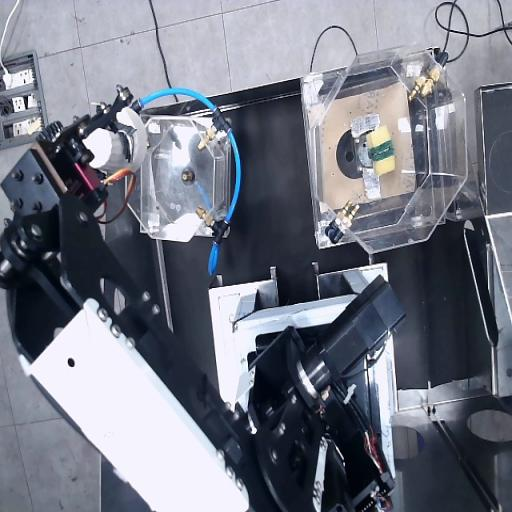cup in rinse station: (83, 107, 146, 171)
